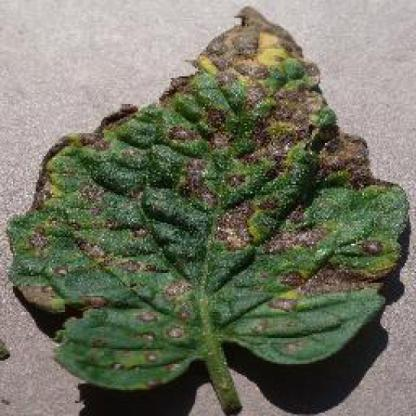Tomato_Blight: (8, 8, 407, 392)
